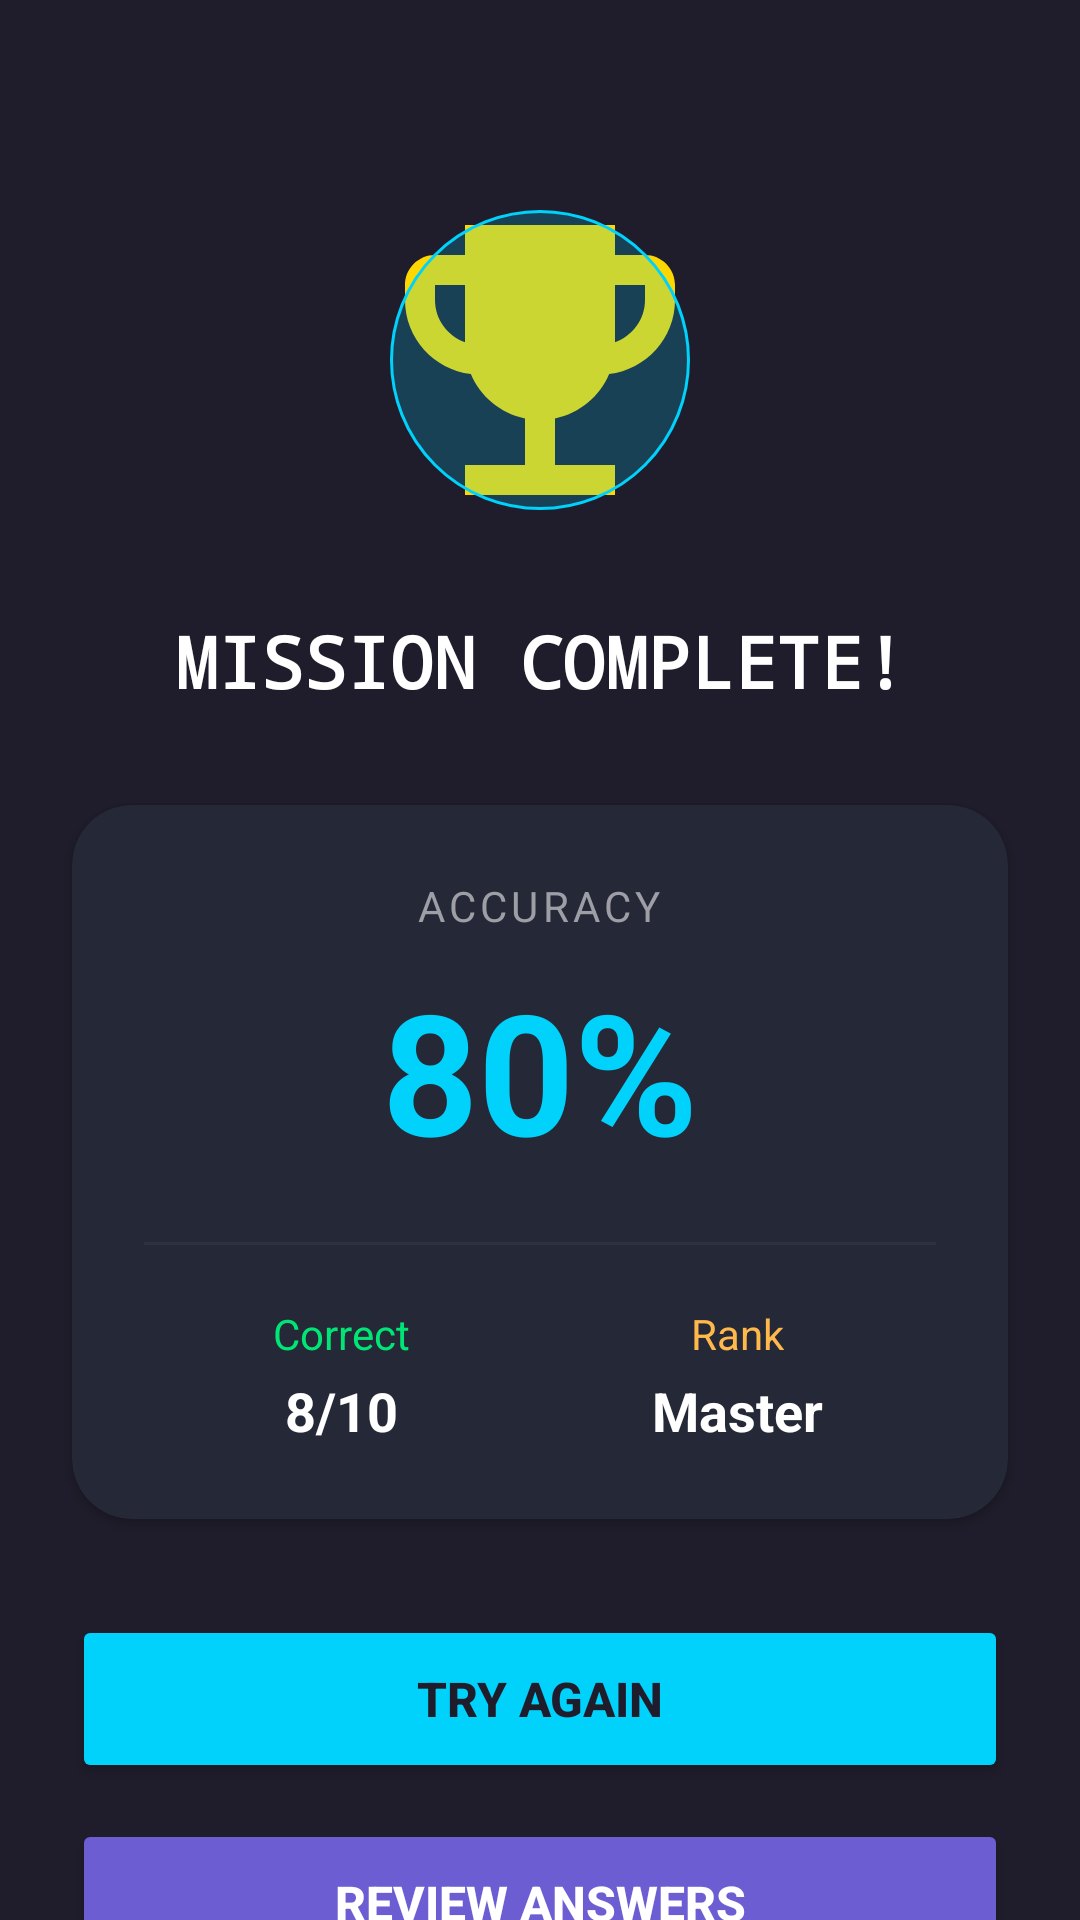

Named icons in this screenshot (1080px×1920px) and their bounding boxes, (x1, y1, x2, y2):
trophy: (390, 210, 690, 510)
